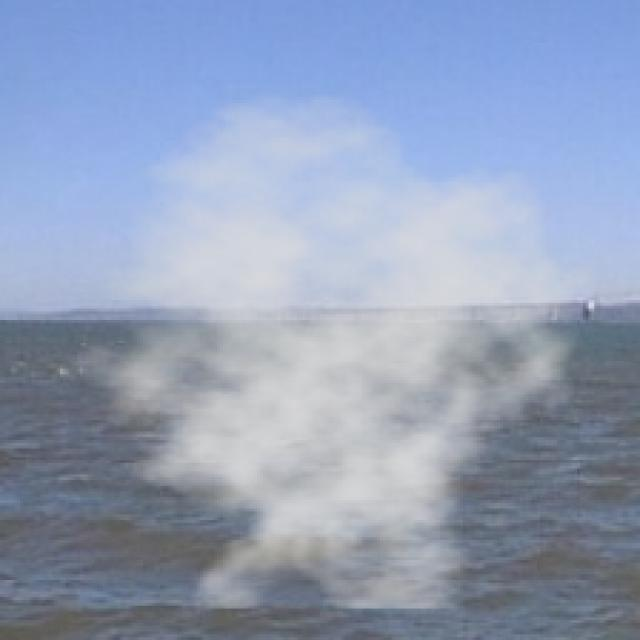Smoke: (40, 91, 600, 608)
